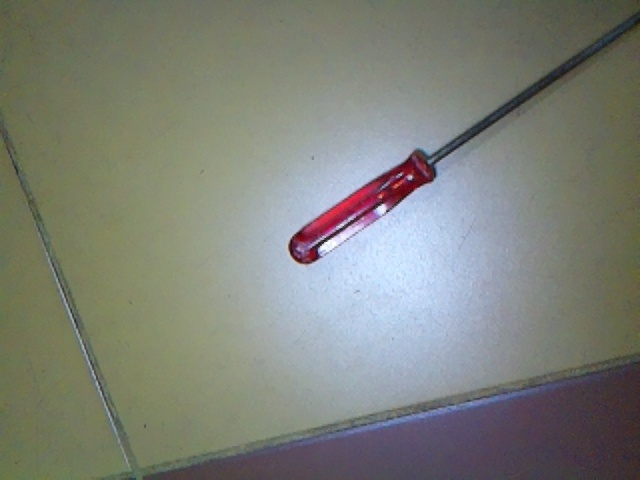redskrew: (286, 31, 616, 270)
